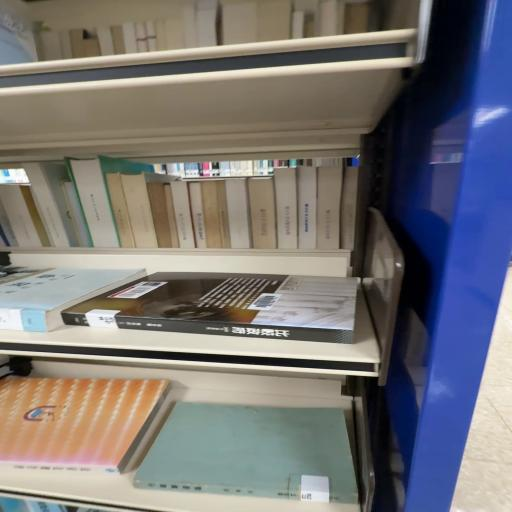flat: (134, 403, 359, 505), (63, 274, 358, 344), (1, 377, 172, 476)
